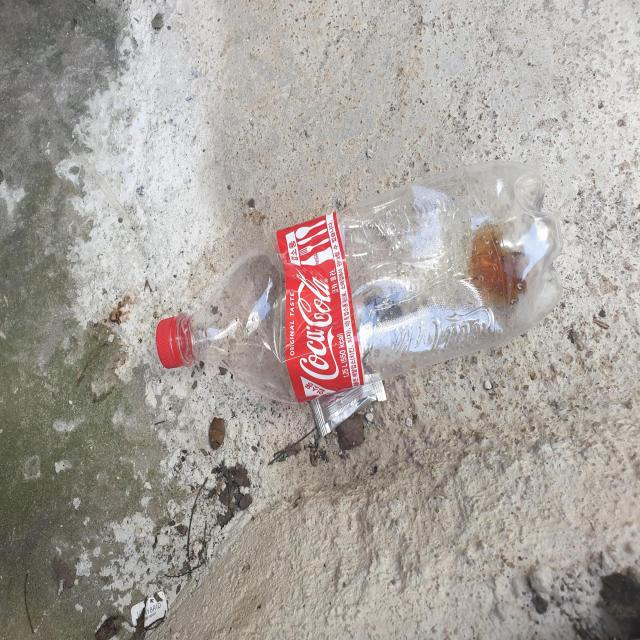plastic: (155, 161, 563, 402)
